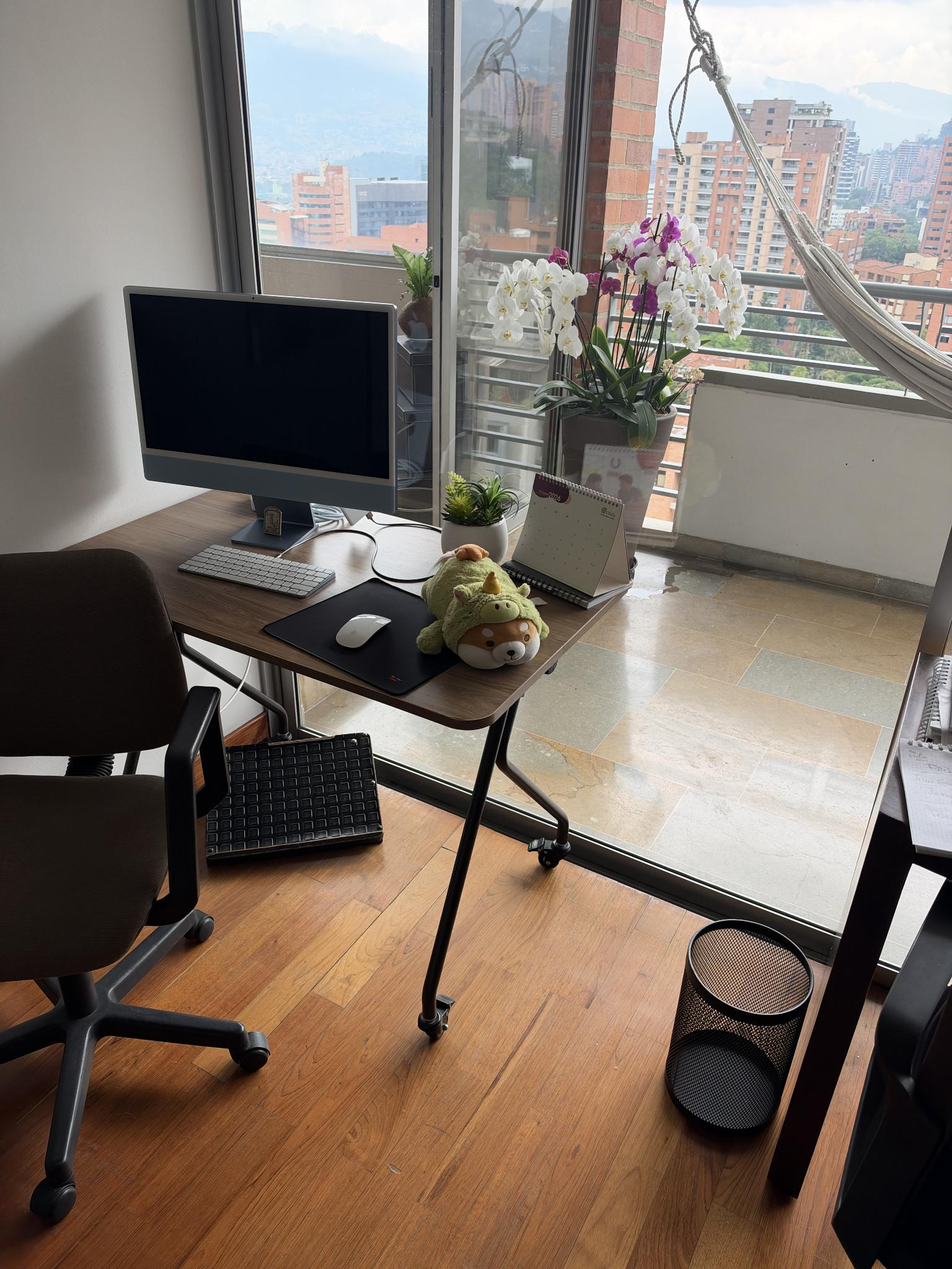peluche_martin: (415, 543, 550, 671)
